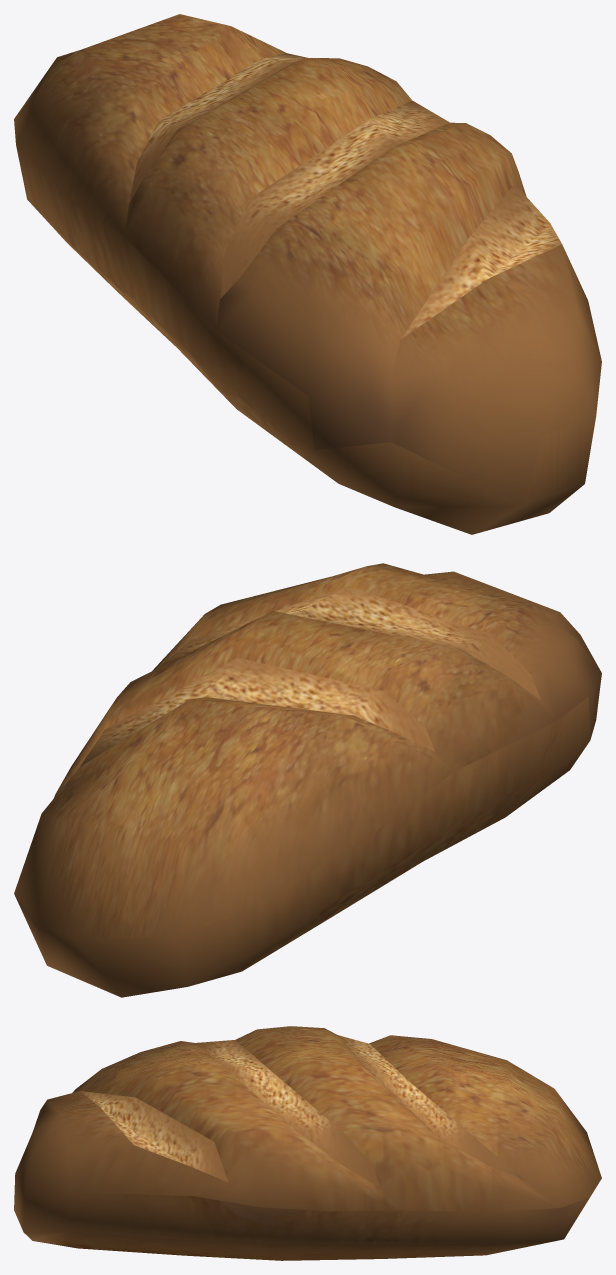
File: este.glb
3 renders of one model, top to bottom at view 1: azimuth 30°, elevation 25°; view 2: azimuth 150°, elevation 25°; view 3: azimuth 270°, elevation 25°, orthographic. The views are drawn at different scales.
Parts seen in each view (by area): view 1: DrawCall_85; view 2: DrawCall_85; view 3: DrawCall_85.
Boxes of the visible parts, x1,y1,x2,y2 form: DrawCall_85: (14,14,601,534); DrawCall_85: (14,563,601,997); DrawCall_85: (14,1026,601,1260).
Bounding box in the file's own units: 2.37 × 1.78 × 4.99.
1 material, 1 textured.
